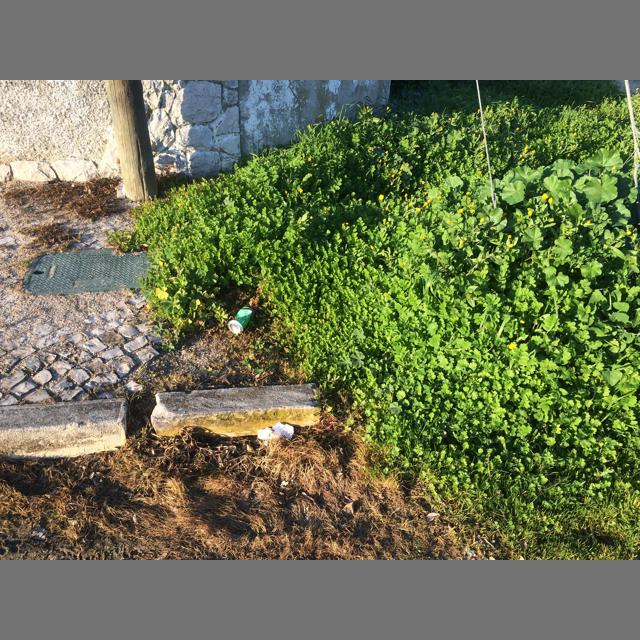litter: (258, 422, 294, 445), (228, 307, 254, 333)
